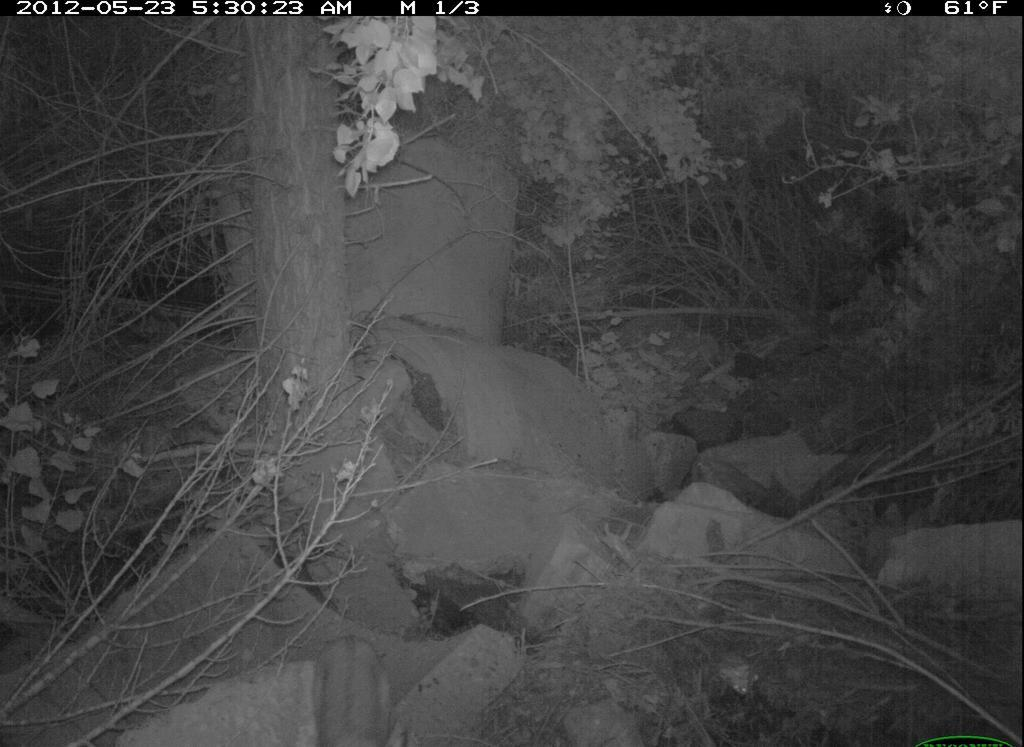bobcat: (303, 625, 410, 747)
